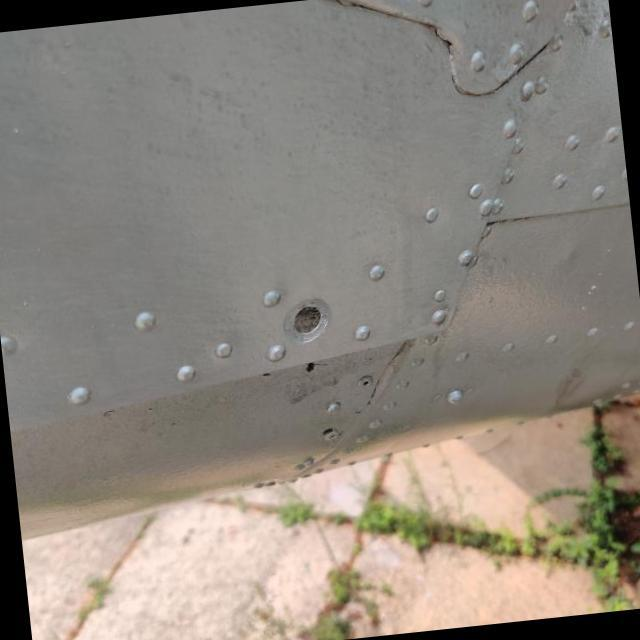Fastener Damage: (244, 260, 364, 376)
